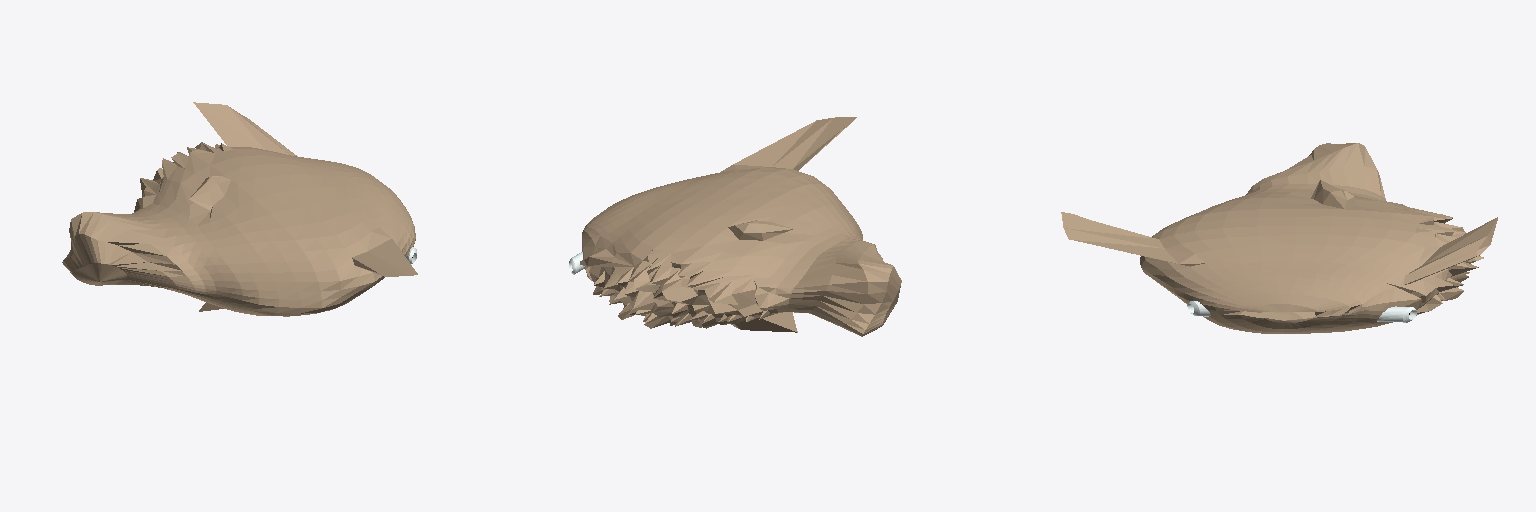
Rendered from pish.obj.
The picture shows the model from 3 angles: view 1: azimuth 30°, elevation 25°; view 2: azimuth 150°, elevation 25°; view 3: azimuth 270°, elevation 25°; orthographic projection.
Parts seen in each view (by area): view 1: Peixe.1; view 2: Peixe.1; view 3: Peixe.1.
Part boxes in pixels (bbox=[...]): Peixe.1: bbox=[62, 102, 417, 316]; Peixe.1: bbox=[569, 117, 901, 336]; Peixe.1: bbox=[1061, 143, 1497, 333].
Bounding box in the file's own units: 53.34 × 21.04 × 67.03.